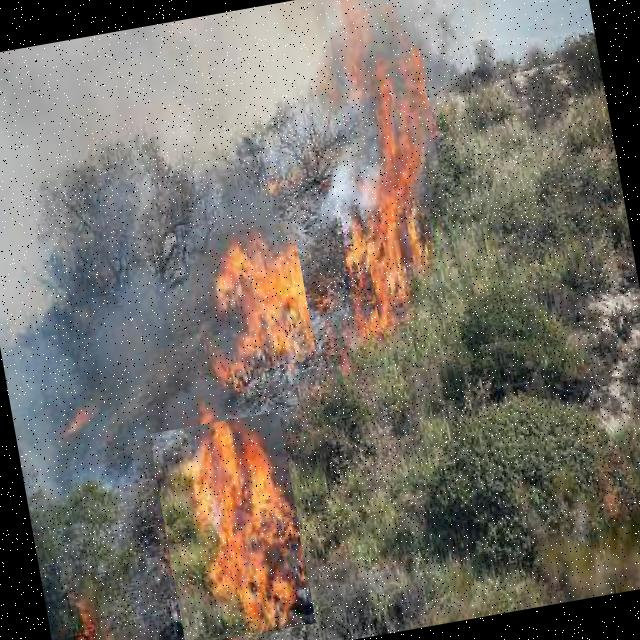fire: (321, 0, 464, 326), (148, 410, 315, 640), (185, 220, 316, 377)
